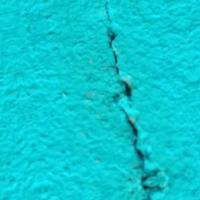crack: (92, 0, 162, 198)
